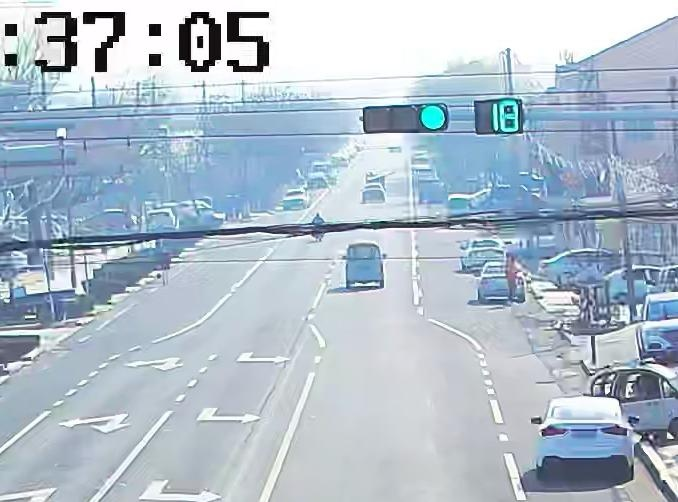green: (415, 104, 448, 132)
greentime: (490, 99, 523, 133)
